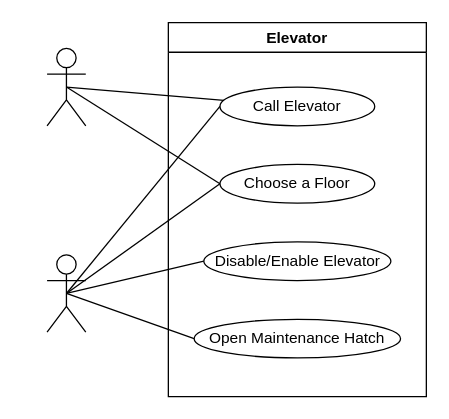
The diagram is 449 pixels wide and 419 high, and some of its shapes have lost their labels. The centre of each missing label's shape, as x and y in pixels:
"Maintenance" belongs at point 66,292.
"User" belongs at point 66,86.
